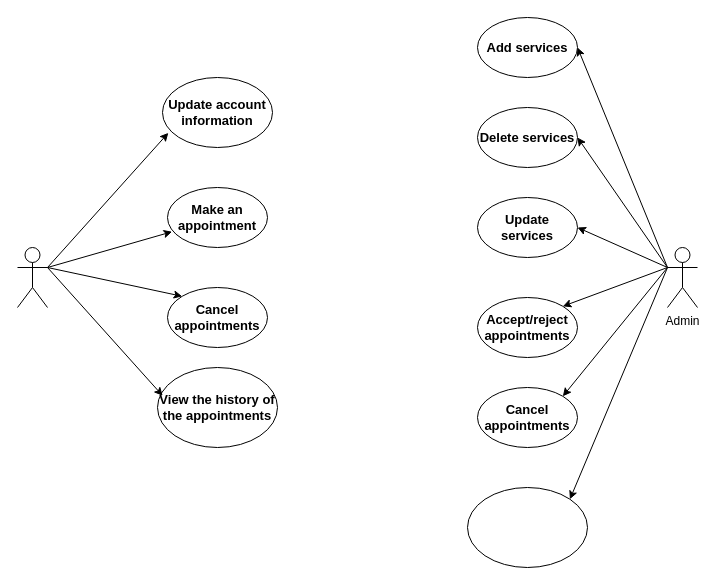
Some shapes in this 717 by 585 pixel diagram are drawn without their labels. The shapes that lost their labels are listed below. From the top down, each one's centre as x and y in pixels, then its label:
At point 32,277: "Client".
At point 527,527: "View the history of all appointments".
